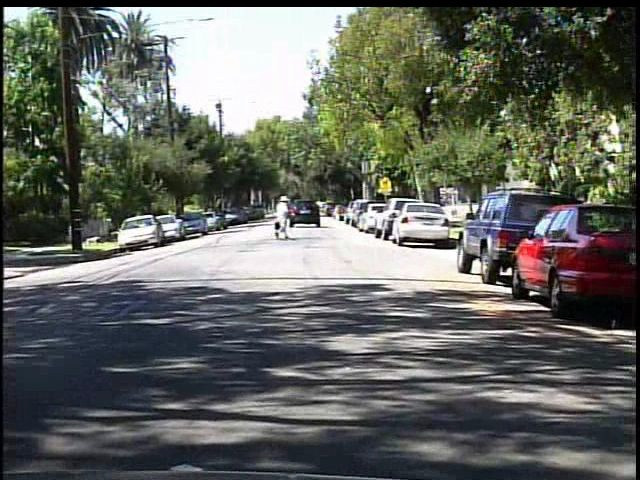person: (270, 194, 297, 243)
